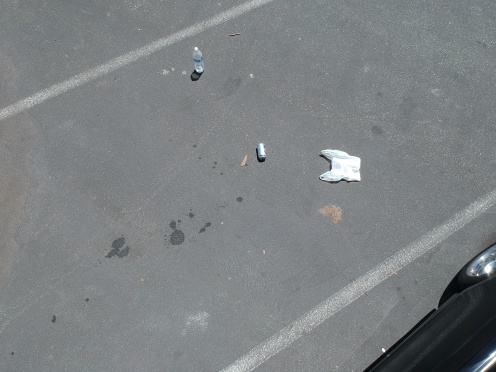bottle: (185, 42, 210, 79)
can: (252, 138, 270, 163)
plastic bag: (318, 143, 368, 190)
